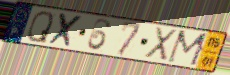6: (86, 18, 113, 53)
7: (118, 20, 143, 58)
M: (165, 29, 211, 68)
Q: (26, 10, 55, 45)
X: (47, 12, 86, 50), (142, 26, 179, 63)
